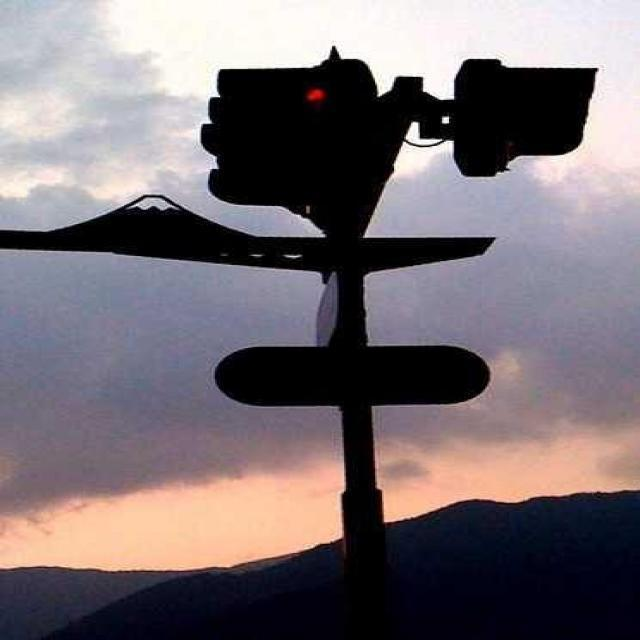red_light: (300, 73, 338, 186)
